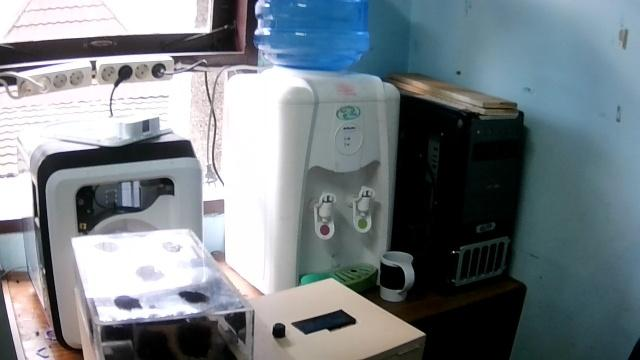Dispenser: (223, 0, 401, 297)
